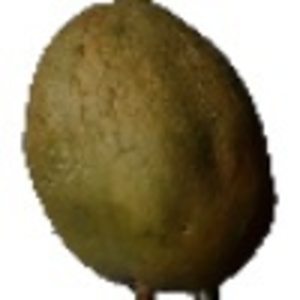mamão: (17, 1, 288, 292)
